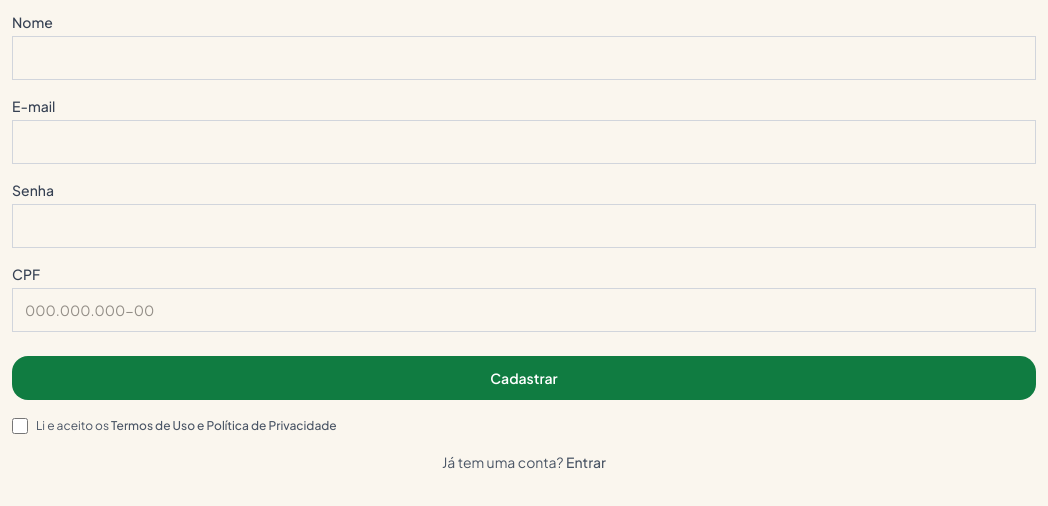
Test case: RegisterForm › should show error when terms checkbox is not checked
Type "João Silva" into the field labelled "Nome".
click(524, 58); type("João Silva")  # box x1=12 y1=36 x2=1036 y2=80
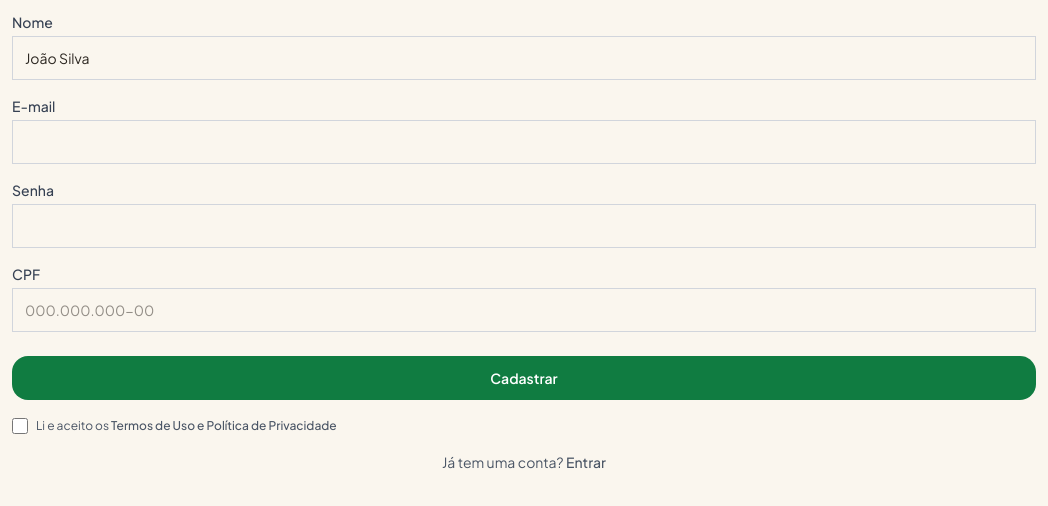
Type "joao@example.com" into the field labelled "E-mail".
click(524, 142); type("joao@example.com")  # box x1=12 y1=120 x2=1036 y2=164
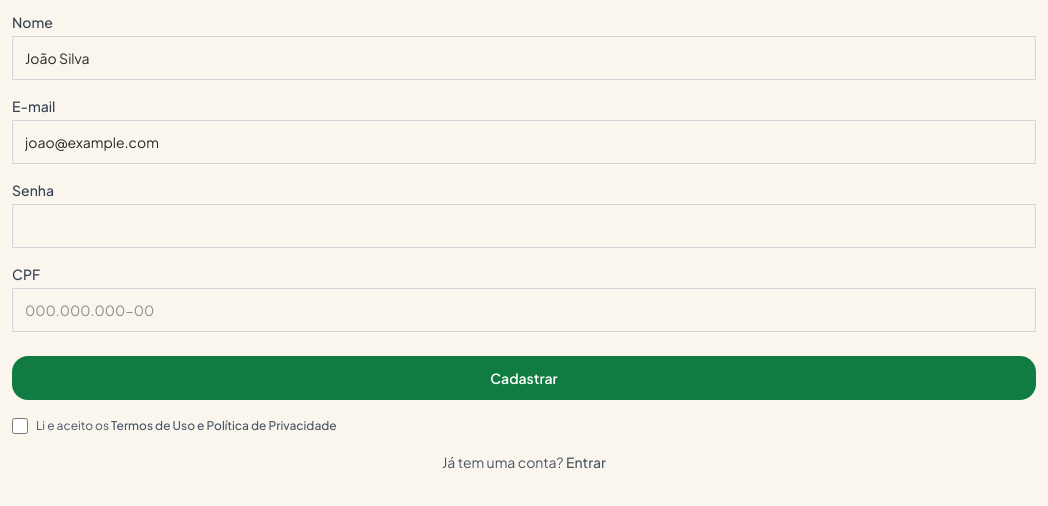
Type "senhasegura123" into the password field labelled "Senha".
click(524, 226); type("senhasegura123")  # box x1=12 y1=204 x2=1036 y2=248
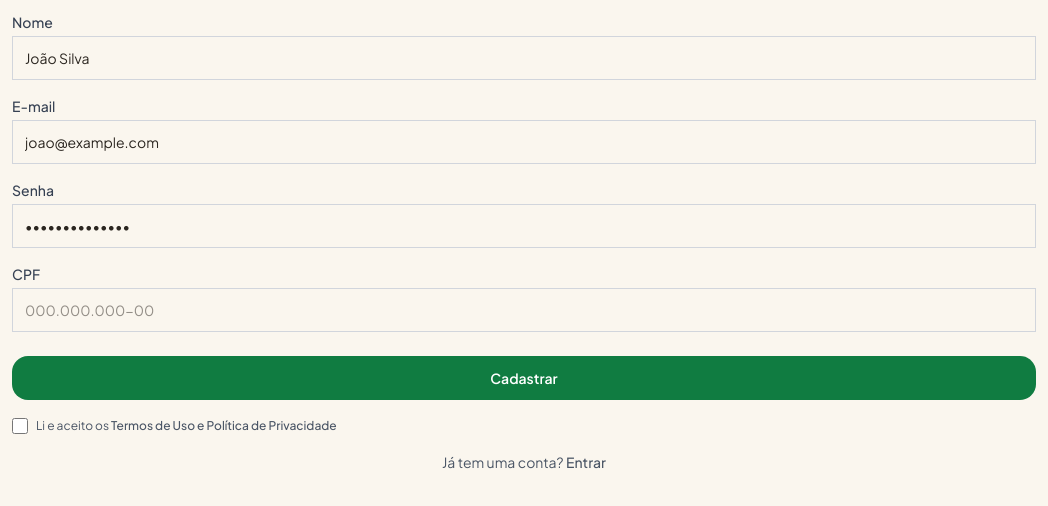
Type "52998224725" into the field labelled "CPF".
click(524, 310); type("52998224725")  # box x1=12 y1=288 x2=1036 y2=332
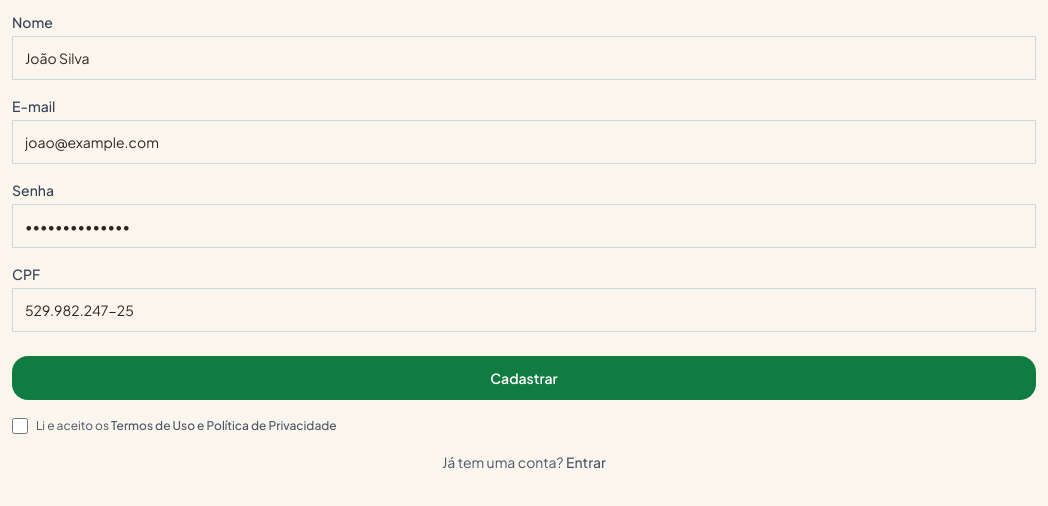
Click the button "Cadastrar".
click(524, 378)  # box x1=12 y1=356 x2=1036 y2=400
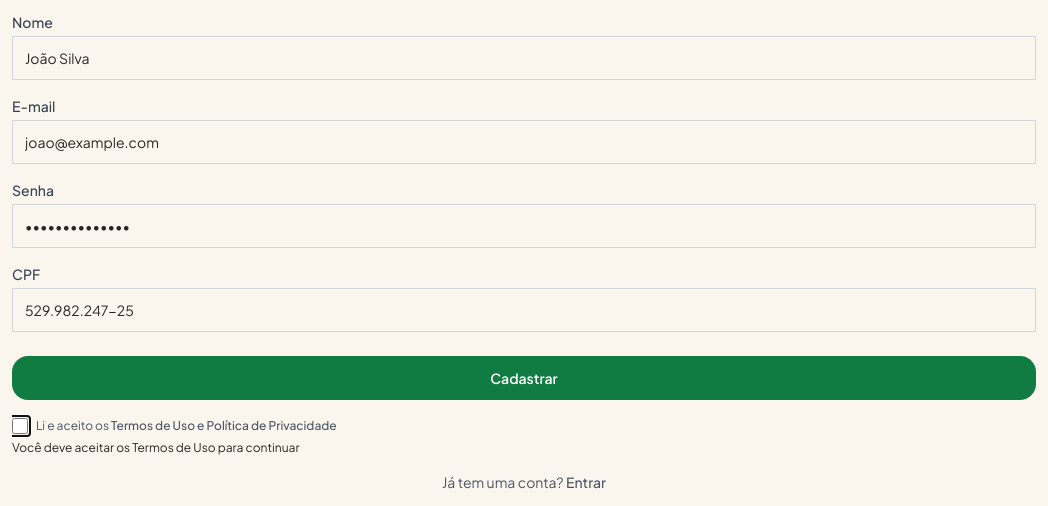
Result: the text "Você deve aceitar os Termos de Uso para continuar" is shown at x1=12 y1=440 x2=300 y2=454
